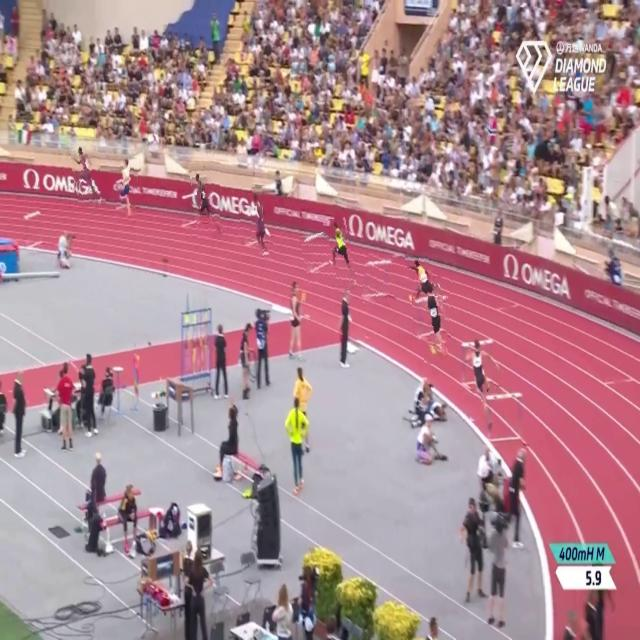athlete: (464, 342, 496, 420), (426, 276, 451, 365), (325, 217, 354, 291), (192, 162, 220, 238), (72, 142, 104, 207), (252, 186, 272, 261), (407, 251, 434, 303), (117, 157, 138, 218)
hurdle: (481, 394, 525, 446), (462, 338, 499, 392), (413, 296, 448, 346), (301, 232, 334, 283), (362, 254, 392, 302), (22, 204, 44, 254), (240, 206, 263, 244), (178, 187, 197, 231)
